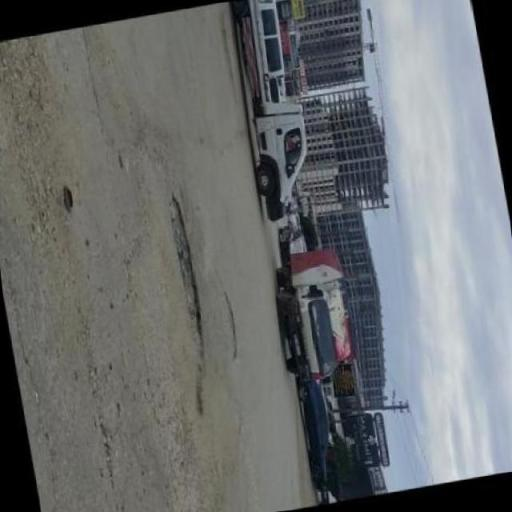pothole: (170, 194, 203, 343)
